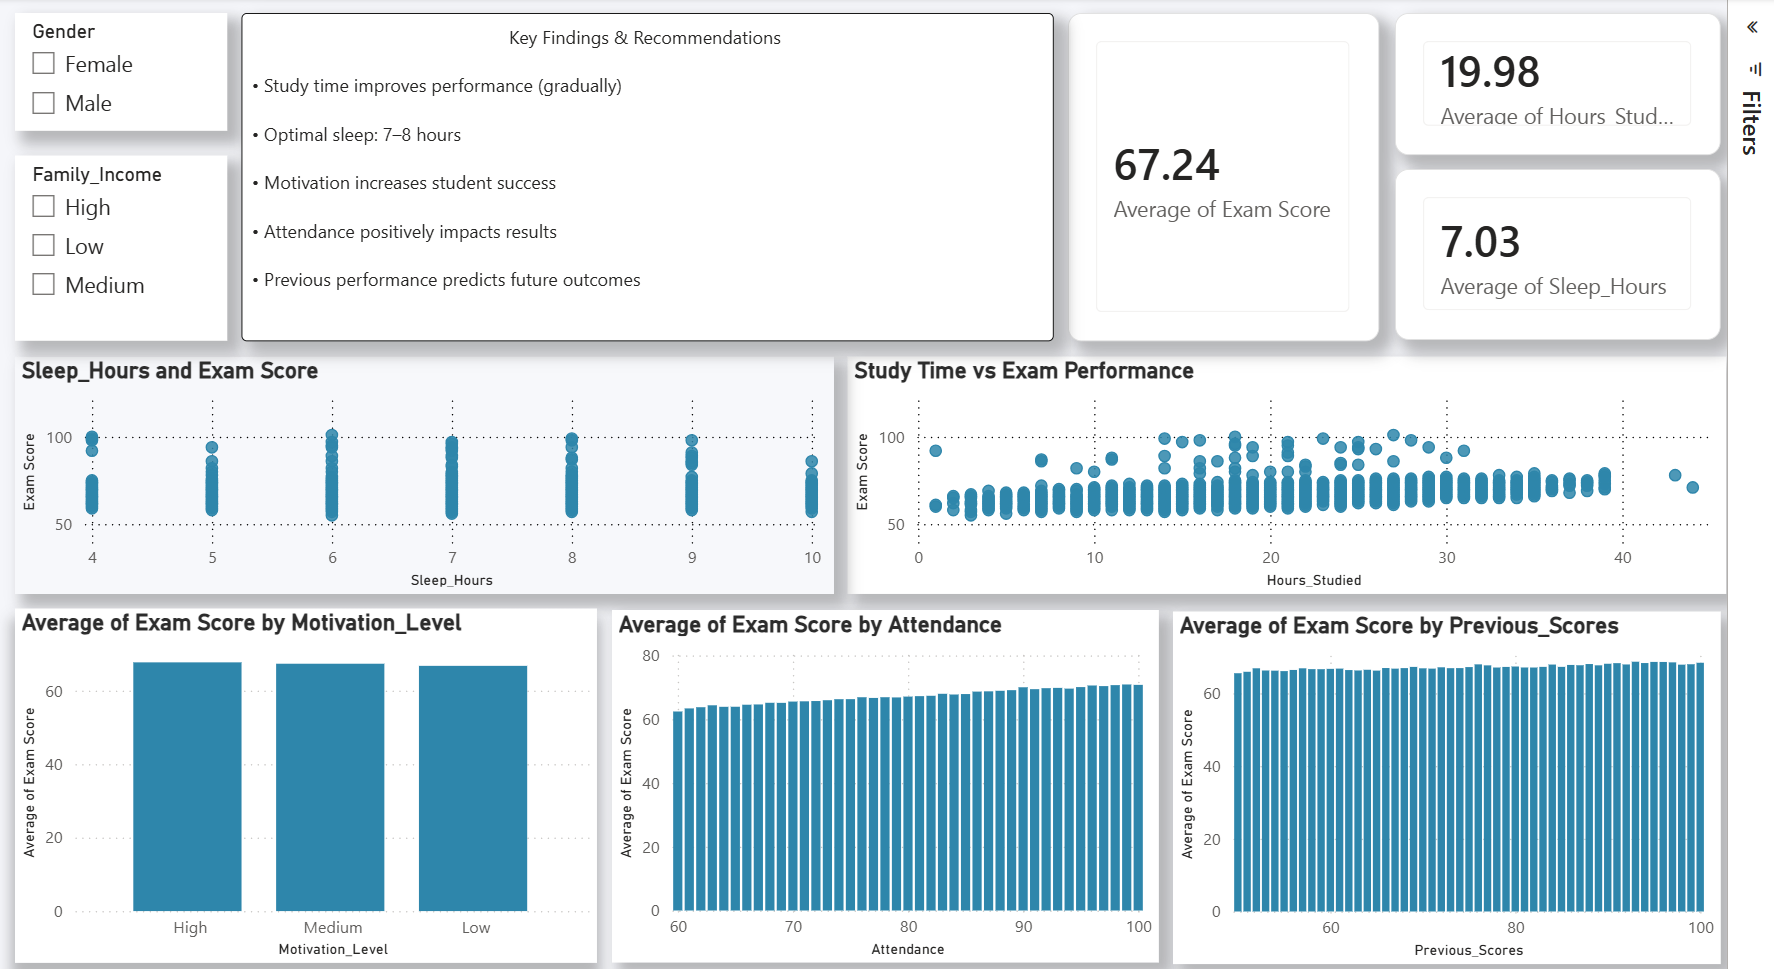

The page's visual inventory and layout, read from the dashboard file:
{"tool":"powerbi","page":{"name":"Page 1","canvas":[1280,720],"ordinal":0},"visuals":[{"type":"scatterChart","title":"Study Time vs Exam Performance ","fields":{"Y":["Avg(StudentPerformanceFactors.Exam_Score)"],"X":["StudentPerformanceFactors.Hours_Studied"]},"box":[628.3,266,651.2,175.8],"z":0},{"type":"scatterChart","fields":{"X":["StudentPerformanceFactors.Sleep_Hours"],"Y":["Sum(StudentPerformanceFactors.Exam_Score)"]},"box":[10.7,266,606.9,175.8],"z":1},{"type":"cardVisual","fields":{"Data":["Avg(StudentPerformanceFactors.Exam_Score)"]},"box":[791.9,10.7,230.8,243.1],"z":3},{"type":"cardVisual","fields":{"Data":["Avg(StudentPerformanceFactors.Hours_Studied)"]},"box":[1033.4,10.7,241.5,105.5],"z":4},{"type":"cardVisual","fields":{"Data":["Avg(StudentPerformanceFactors.Sleep_Hours)"]},"box":[1033.4,126.9,241.5,126.9],"z":5},{"type":"columnChart","fields":{"Category":["StudentPerformanceFactors.Motivation_Level"],"Y":["Avg(StudentPerformanceFactors.Exam_Score)"]},"box":[10.7,452.5,431.1,262.9],"z":6},{"type":"columnChart","fields":{"Category":["StudentPerformanceFactors.Attendance"],"Y":["Avg(StudentPerformanceFactors.Exam_Score)"]},"box":[454,454,405.1,261.4],"z":7},{"type":"columnChart","fields":{"Category":["StudentPerformanceFactors.Previous_Scores"],"Y":["Avg(StudentPerformanceFactors.Exam_Score)"]},"box":[869.6,454.5,406.2,261],"z":8},{"type":"slicer","fields":{"Values":["StudentPerformanceFactors.Gender"]},"box":[10.7,10.7,157.5,87.1],"z":9},{"type":"slicer","fields":{"Values":["StudentPerformanceFactors.Family_Income"]},"box":[10.7,116.2,157.5,137.6],"z":10},{"type":"textbox","box":[178.9,10.7,602.3,243.1],"z":11}]}

Visuals, with their boxes in screenshot pixels (x1, y1, x2, y2):
"Study Time vs Exam Performance " scatterChart: [left=853, top=358, right=1719, bottom=592]
scatterChart - StudentPerformanceFactors.Sleep_Hours x Sum(StudentPerformanceFactors.Exam_Score): [left=33, top=358, right=839, bottom=592]
cardVisual - Avg(StudentPerformanceFactors.Exam_Score): [left=1071, top=19, right=1377, bottom=342]
cardVisual - Avg(StudentPerformanceFactors.Hours_Studied): [left=1392, top=19, right=1713, bottom=159]
cardVisual - Avg(StudentPerformanceFactors.Sleep_Hours): [left=1392, top=173, right=1713, bottom=342]
columnChart - StudentPerformanceFactors.Motivation_Level x Avg(StudentPerformanceFactors.Exam_Score): [left=33, top=606, right=606, bottom=955]
columnChart - StudentPerformanceFactors.Attendance x Avg(StudentPerformanceFactors.Exam_Score): [left=622, top=608, right=1160, bottom=955]
columnChart - StudentPerformanceFactors.Previous_Scores x Avg(StudentPerformanceFactors.Exam_Score): [left=1174, top=609, right=1714, bottom=955]
slicer - StudentPerformanceFactors.Gender: [left=33, top=19, right=242, bottom=135]
slicer - StudentPerformanceFactors.Family_Income: [left=33, top=159, right=242, bottom=342]
textbox: [left=256, top=19, right=1057, bottom=342]
